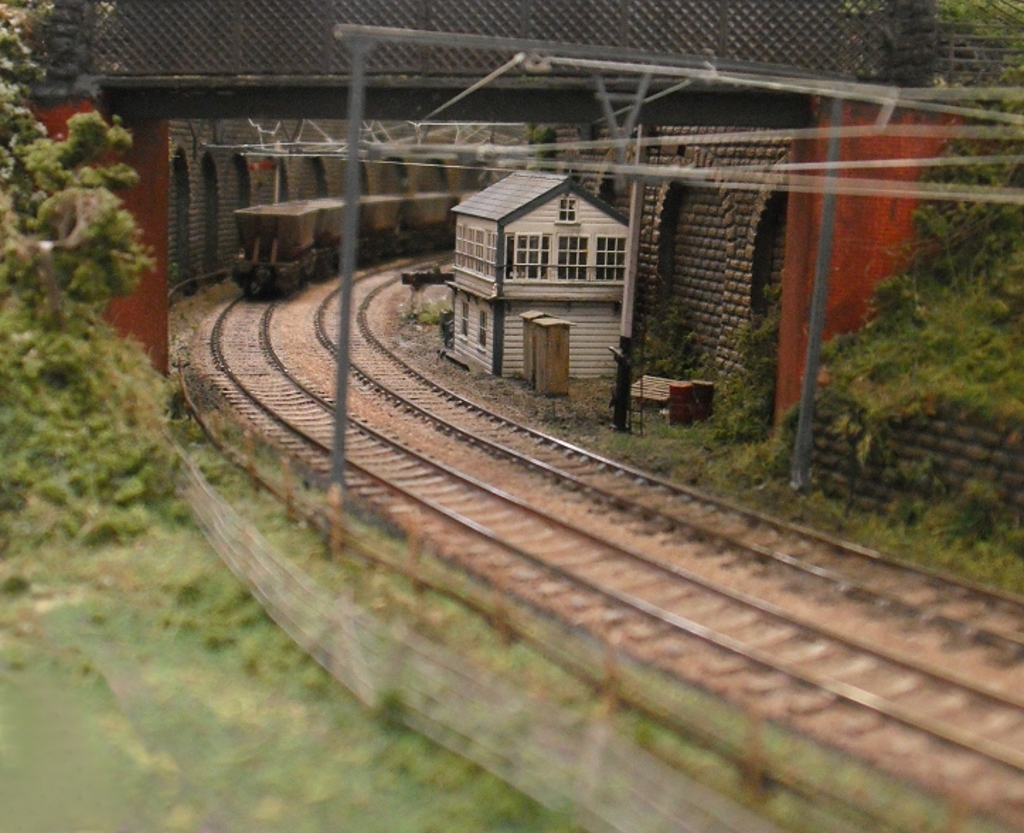Tree: (0, 0, 160, 514)
